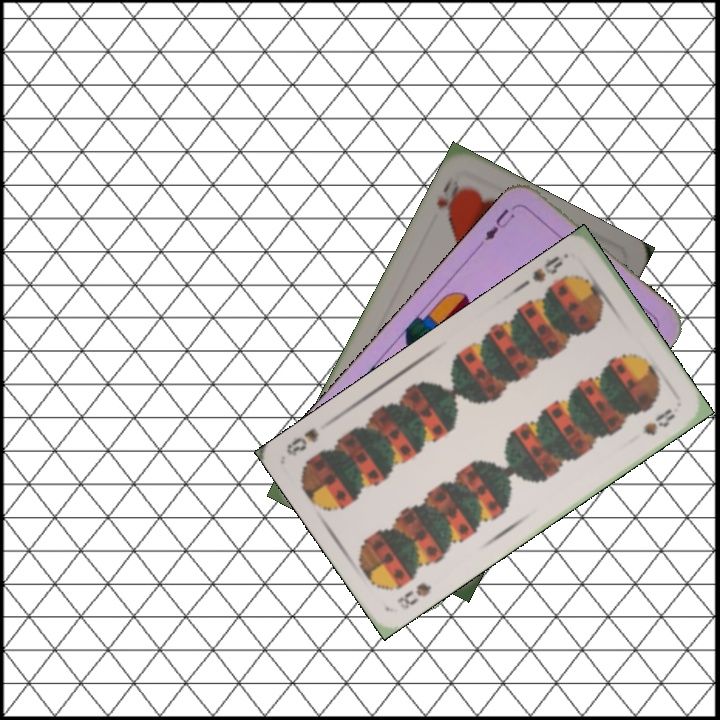EU: (475, 201, 520, 248)
HO: (432, 173, 467, 224)
S8: (393, 578, 434, 612), (528, 251, 566, 285)
